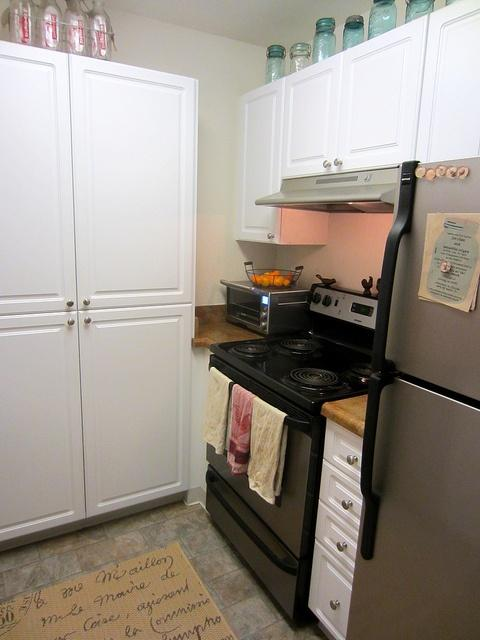Lemari: (0, 39, 201, 542)
